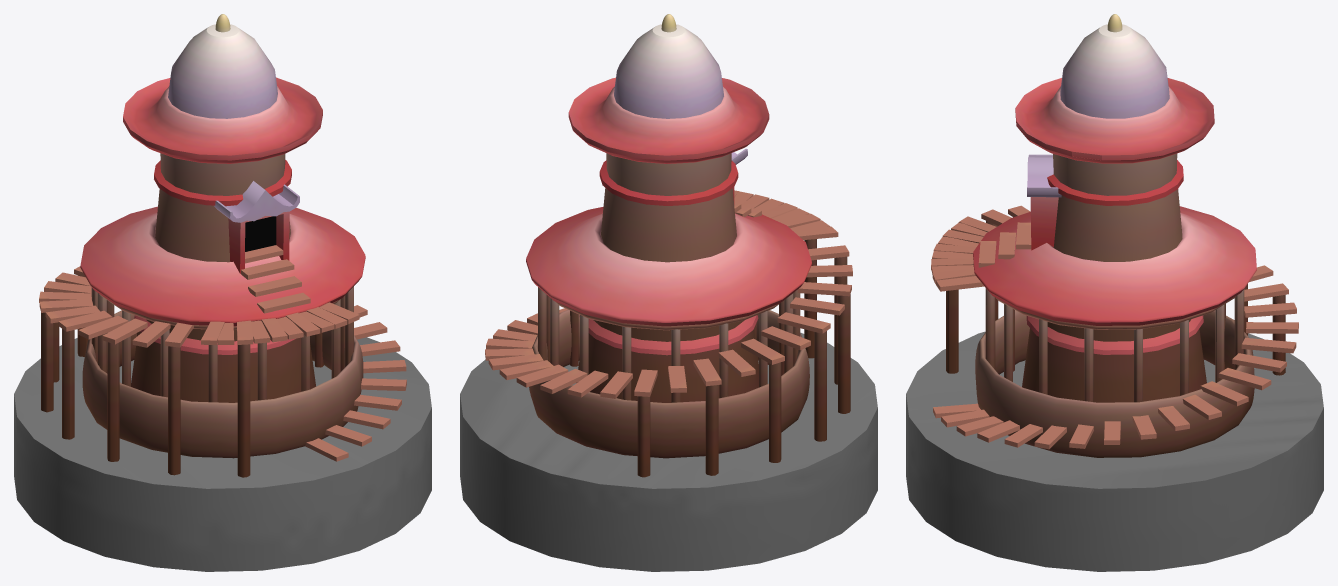
The model's file is LotusHouse_01.fbx.
The picture shows the model from 3 angles, left to right: view 1: azimuth 30°, elevation 25°; view 2: azimuth 150°, elevation 25°; view 3: azimuth 270°, elevation 25°; orthographic projection.
Parts seen in each view (by area): view 1: LotusHouse_01; view 2: LotusHouse_01; view 3: LotusHouse_01.
Part boxes in pixels (x1,y1,x2,y2): LotusHouse_01: [14, 14, 431, 571]; LotusHouse_01: [460, 14, 877, 571]; LotusHouse_01: [906, 14, 1323, 571].
Size of the model in its own units: 989 by 1227 by 989.
1 material, 1 textured.
